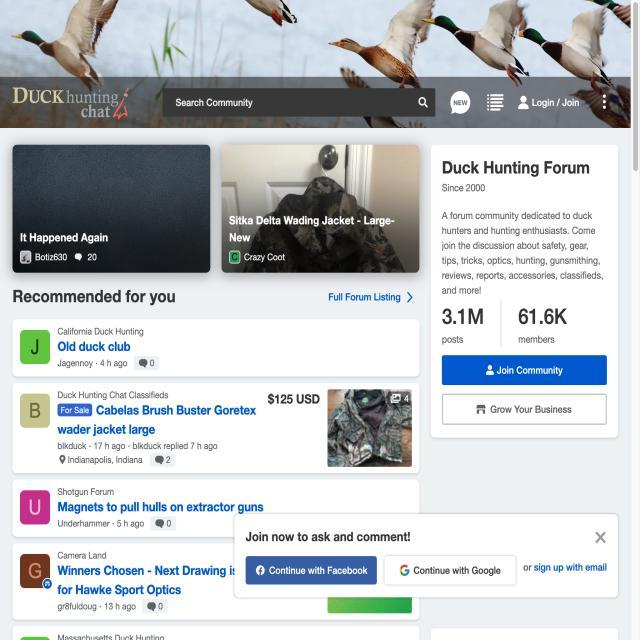button: (440, 390, 610, 428), (439, 353, 610, 388), (378, 552, 520, 590), (244, 553, 380, 589)
input field: (161, 87, 437, 117)
link: (54, 563, 224, 600), (59, 404, 262, 434), (57, 498, 270, 519), (56, 339, 134, 355)
text: (444, 206, 610, 295)
